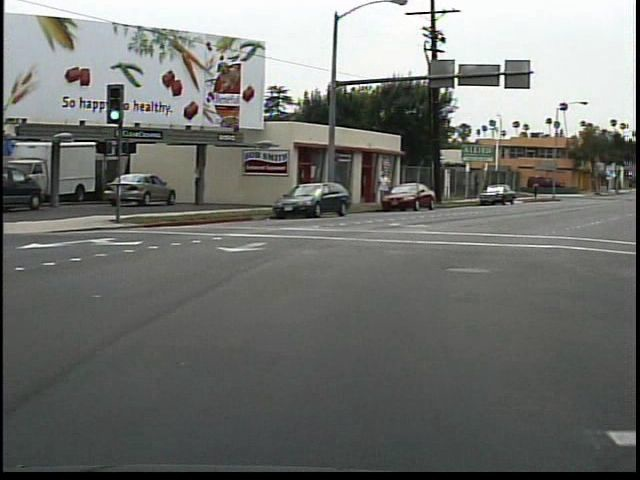person: (373, 166, 396, 211), (531, 179, 543, 205)
